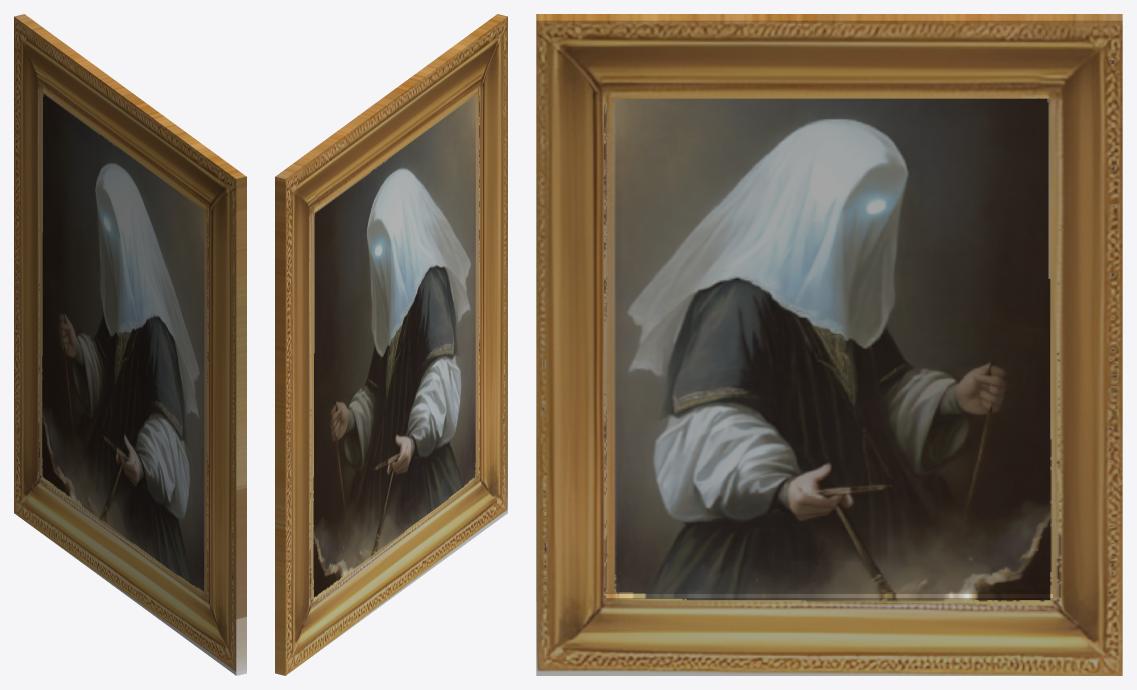
Rendered from Picture 1.glb.
3 renders of one model, left to right at view 1: azimuth 30°, elevation 25°; view 2: azimuth 150°, elevation 25°; view 3: azimuth 270°, elevation 25°, orthographic. The views are drawn at different scales.
Visible parts, largest first — view 1: Pictureframe6; view 2: Pictureframe6; view 3: Pictureframe6.
Boxes of the visible parts, box(x1,y1,x2,y2) form: Pictureframe6: box(14, 14, 246, 675); Pictureframe6: box(275, 14, 507, 675); Pictureframe6: box(536, 14, 1122, 675).
Size of the model in its own units: 0.0142 by 0.6493 by 0.5267.
1 material, 1 textured.
